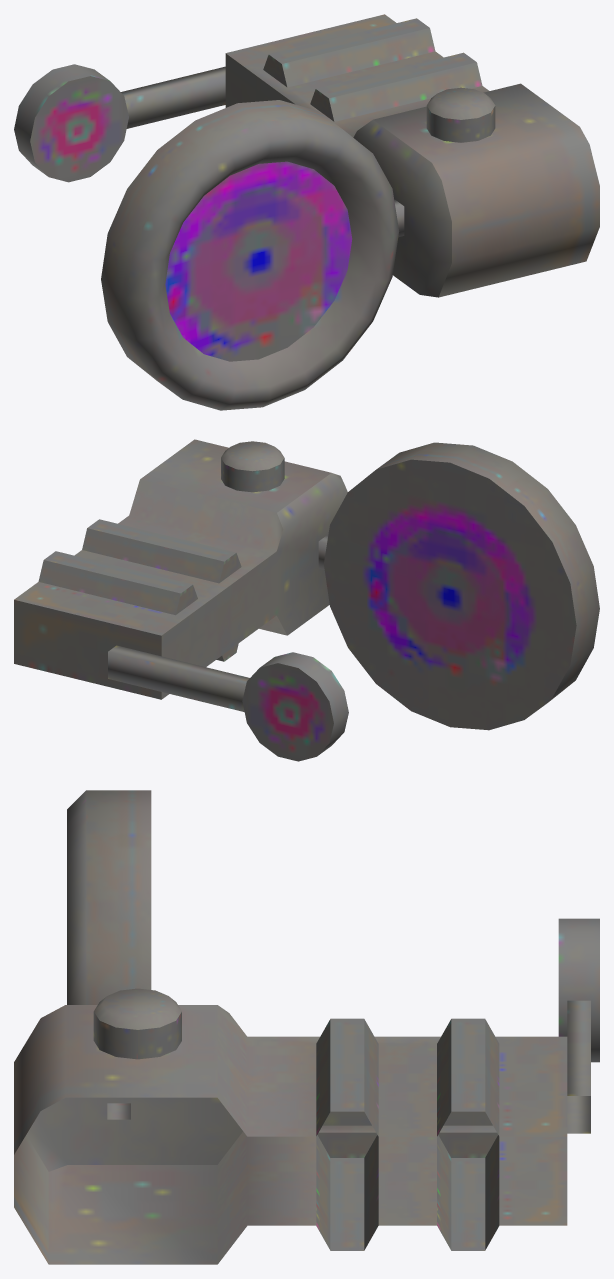
The model's file is sight4.obj.
3 views of the same model, one above another, from view 1: azimuth 30°, elevation 25°; view 2: azimuth 150°, elevation 25°; view 3: azimuth 270°, elevation 25° (orthographic). The views are drawn at different scales.
Parts seen in each view (by area): view 1: sight4; view 2: sight4; view 3: sight4.
Part boxes in pixels (box(x1,y1,x2,y2)): sight4: box(14, 14, 599, 410); sight4: box(14, 439, 599, 761); sight4: box(14, 790, 599, 1264).
Size of the model in its own units: 10.3 by 6.31 by 9.12.
